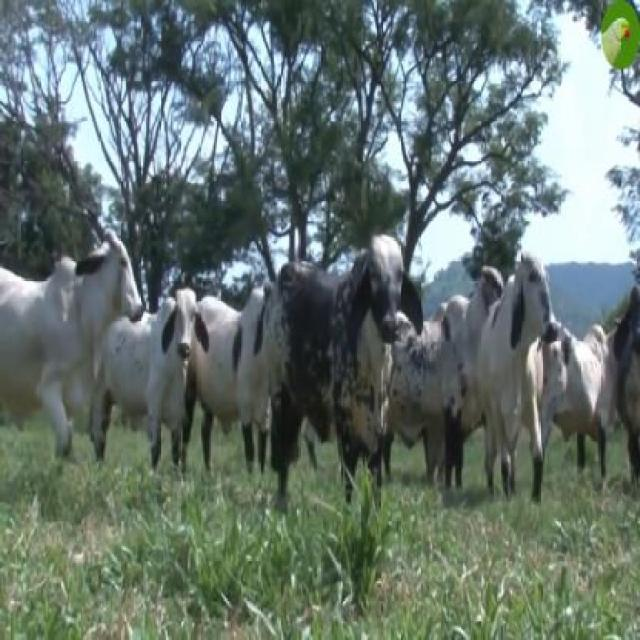Cow: (264, 230, 424, 508), (0, 226, 143, 472), (483, 250, 557, 504), (126, 282, 209, 470)
